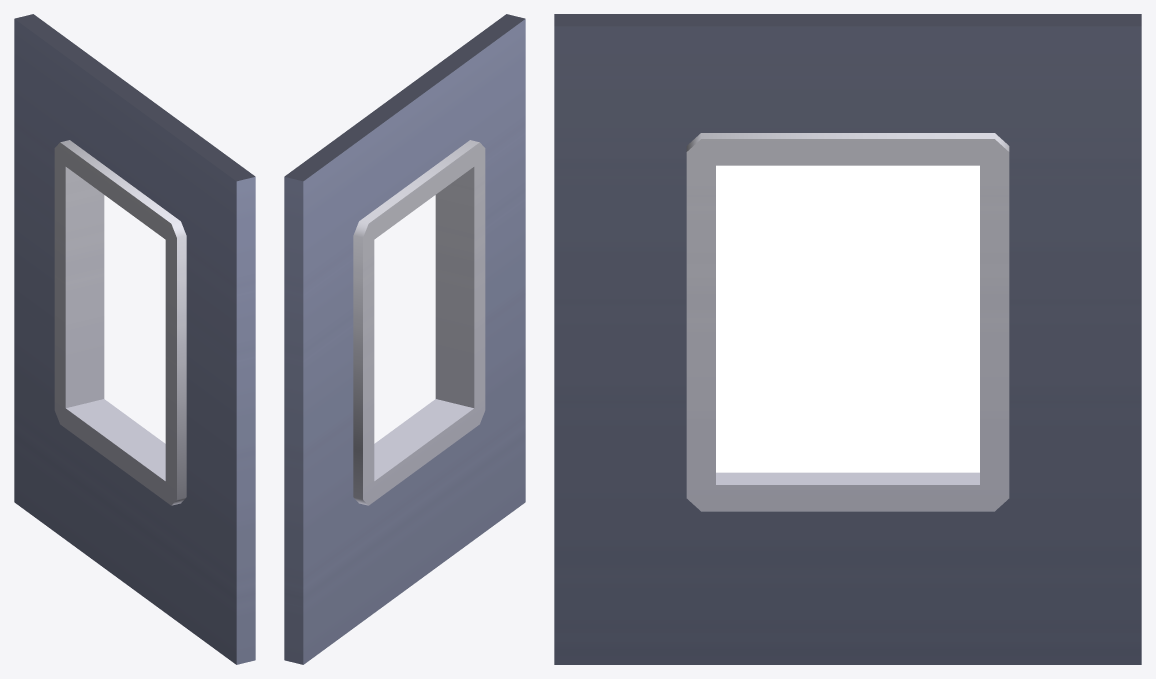
The model's file is building_wall_window_square.glb.
The picture shows the model from 3 angles, left to right: view 1: azimuth 30°, elevation 25°; view 2: azimuth 150°, elevation 25°; view 3: azimuth 270°, elevation 25°; orthographic projection. The views are drawn at different scales.
Visible parts, largest first — view 1: wall-window-square; view 2: wall-window-square; view 3: wall-window-square, (%ignore).
Boxes of the visible parts, bbox=[...] form: wall-window-square: bbox=[14, 14, 255, 664]; wall-window-square: bbox=[284, 14, 525, 664]; wall-window-square: bbox=[554, 14, 1141, 664]; (%ignore): bbox=[716, 165, 979, 472].
Bounding box in the file's own units: 0.2 × 2.4 × 2.
Materials: 2 (1 with a texture image).
